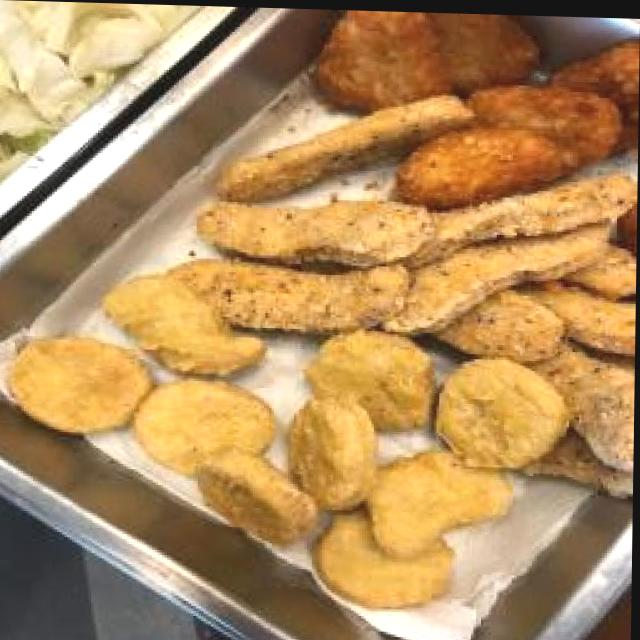chicken_nuggets: (38, 281, 560, 603)
triangle_hash_brown: (338, 8, 640, 193)
